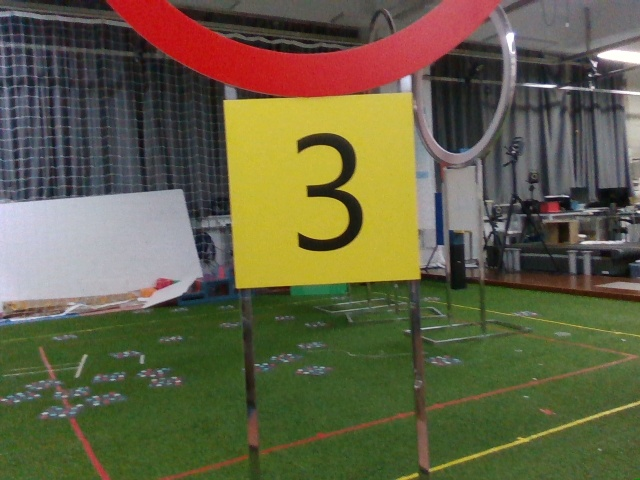target: (235, 99, 408, 286)
